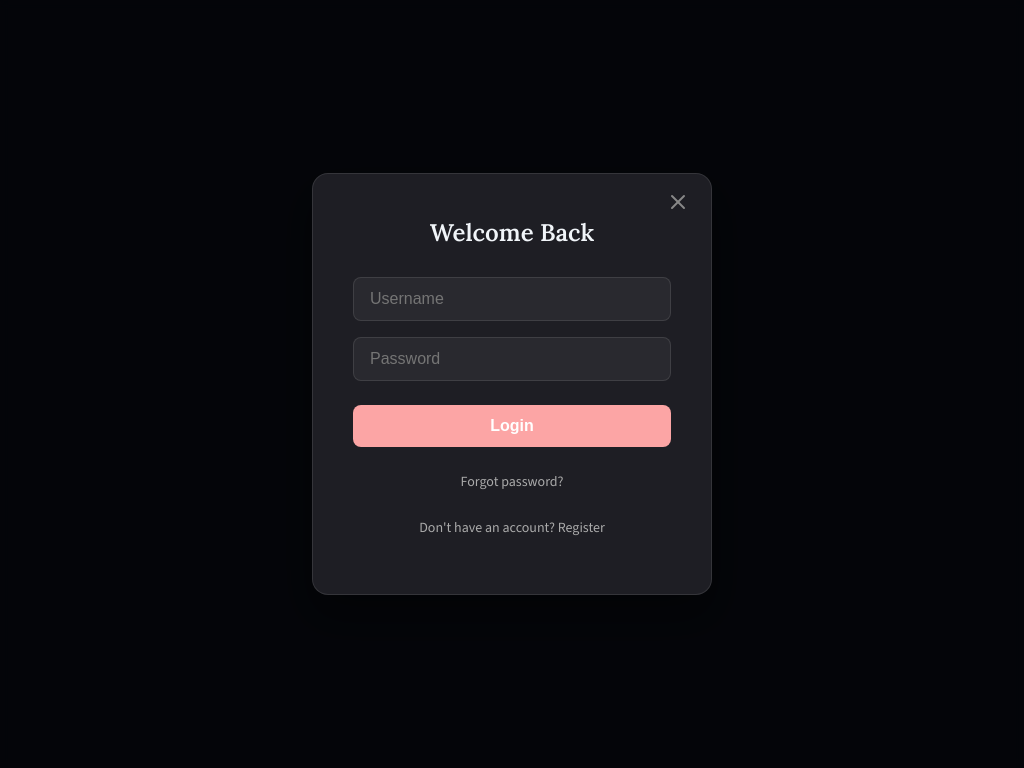
it: AuthModal integration › switches back to login view
The image size is (1024, 768).
Click the text "Don't have an account? Register" at (512, 528), box [419,518,605,537]
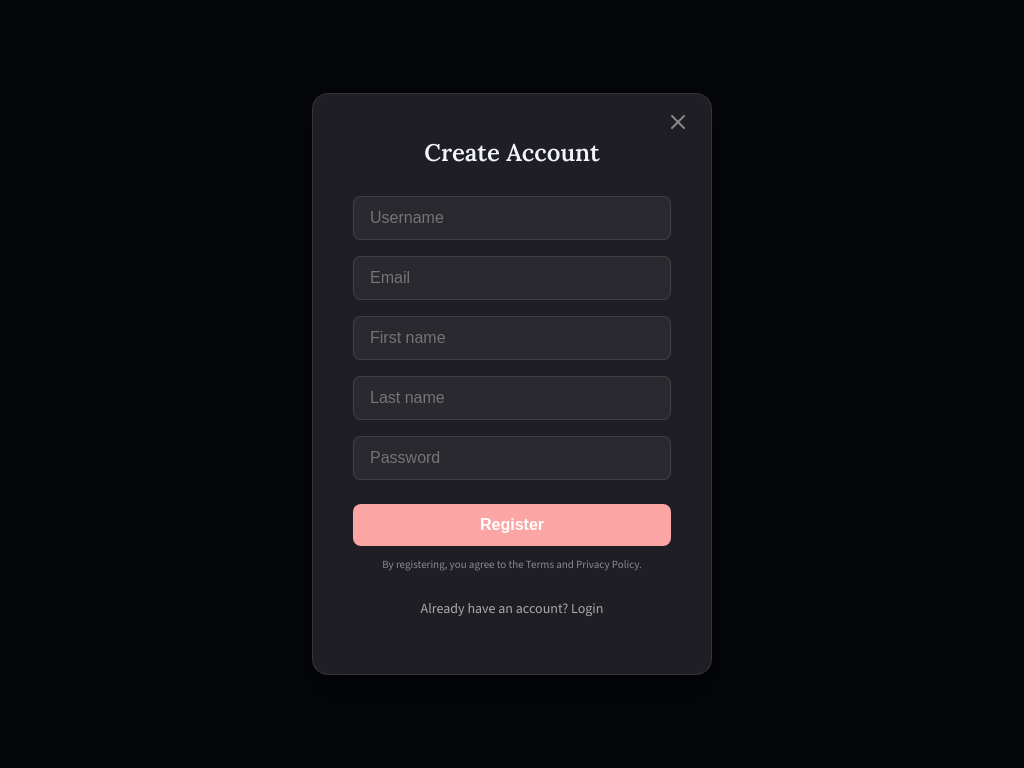
Click the text "Already have an account? Login" at (512, 608), box [421,599,603,618]
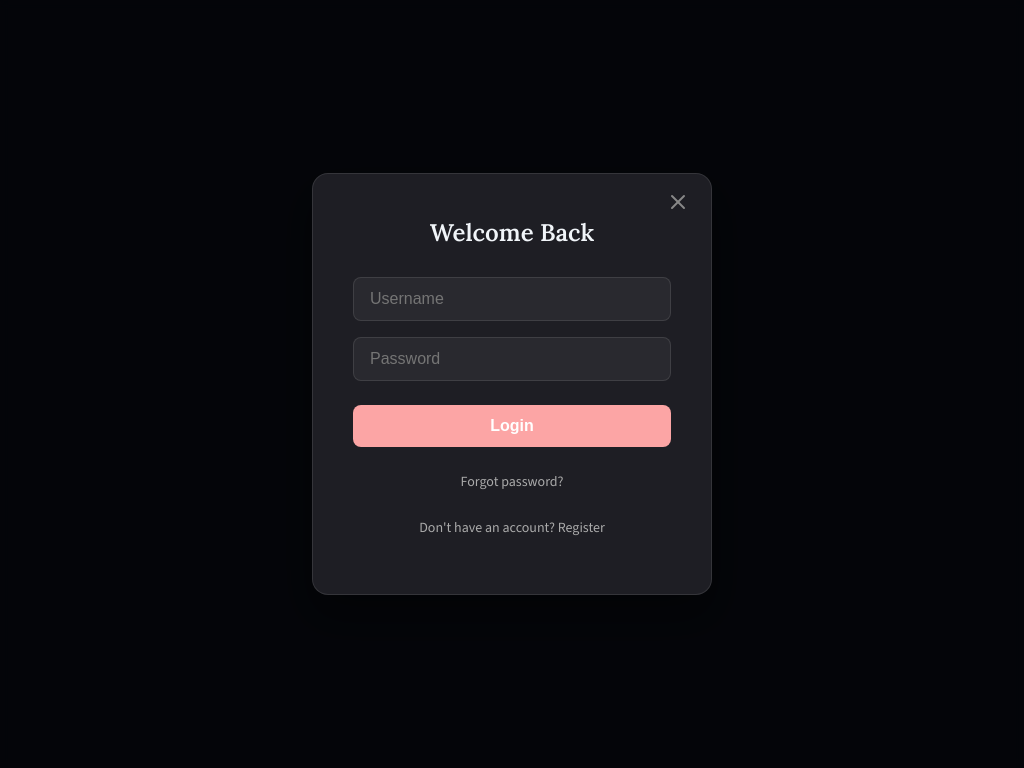
Expected: the heading "Welcome Back" is shown, [430,217,594,248]
